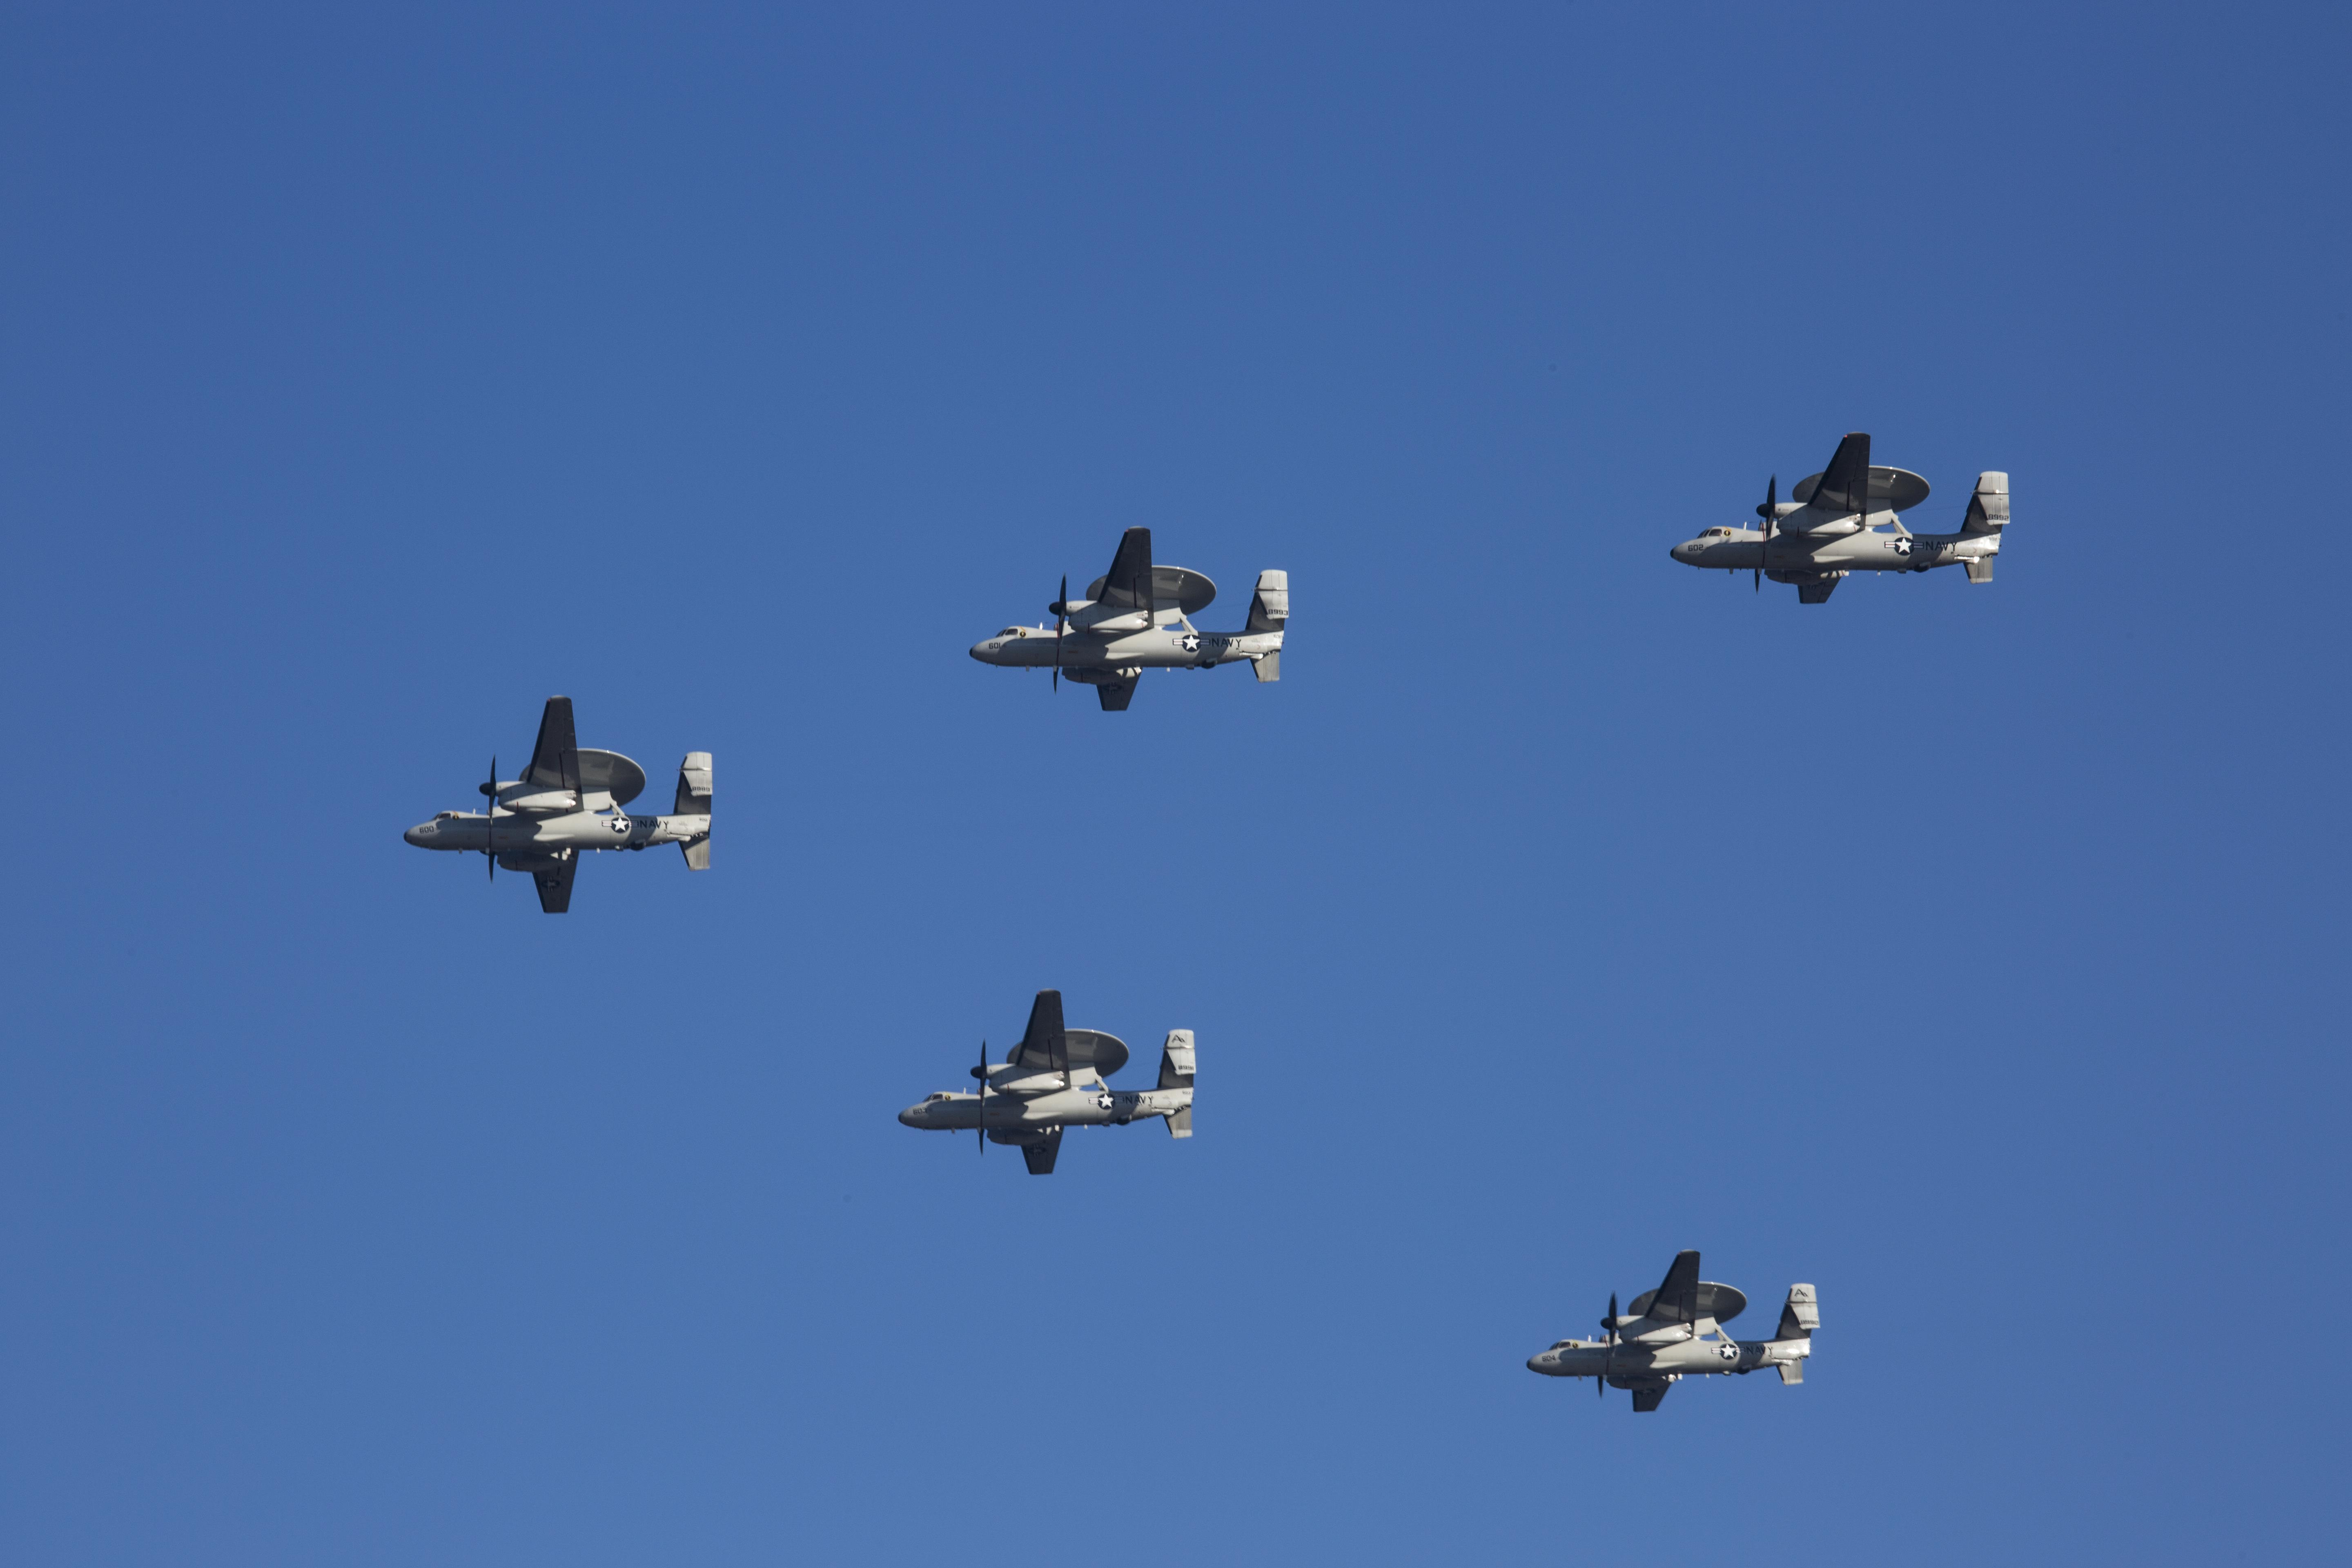E2: (404, 695, 712, 913), (969, 525, 1290, 712), (1669, 430, 2009, 604), (898, 987, 1197, 1176), (1526, 1249, 1820, 1412)
